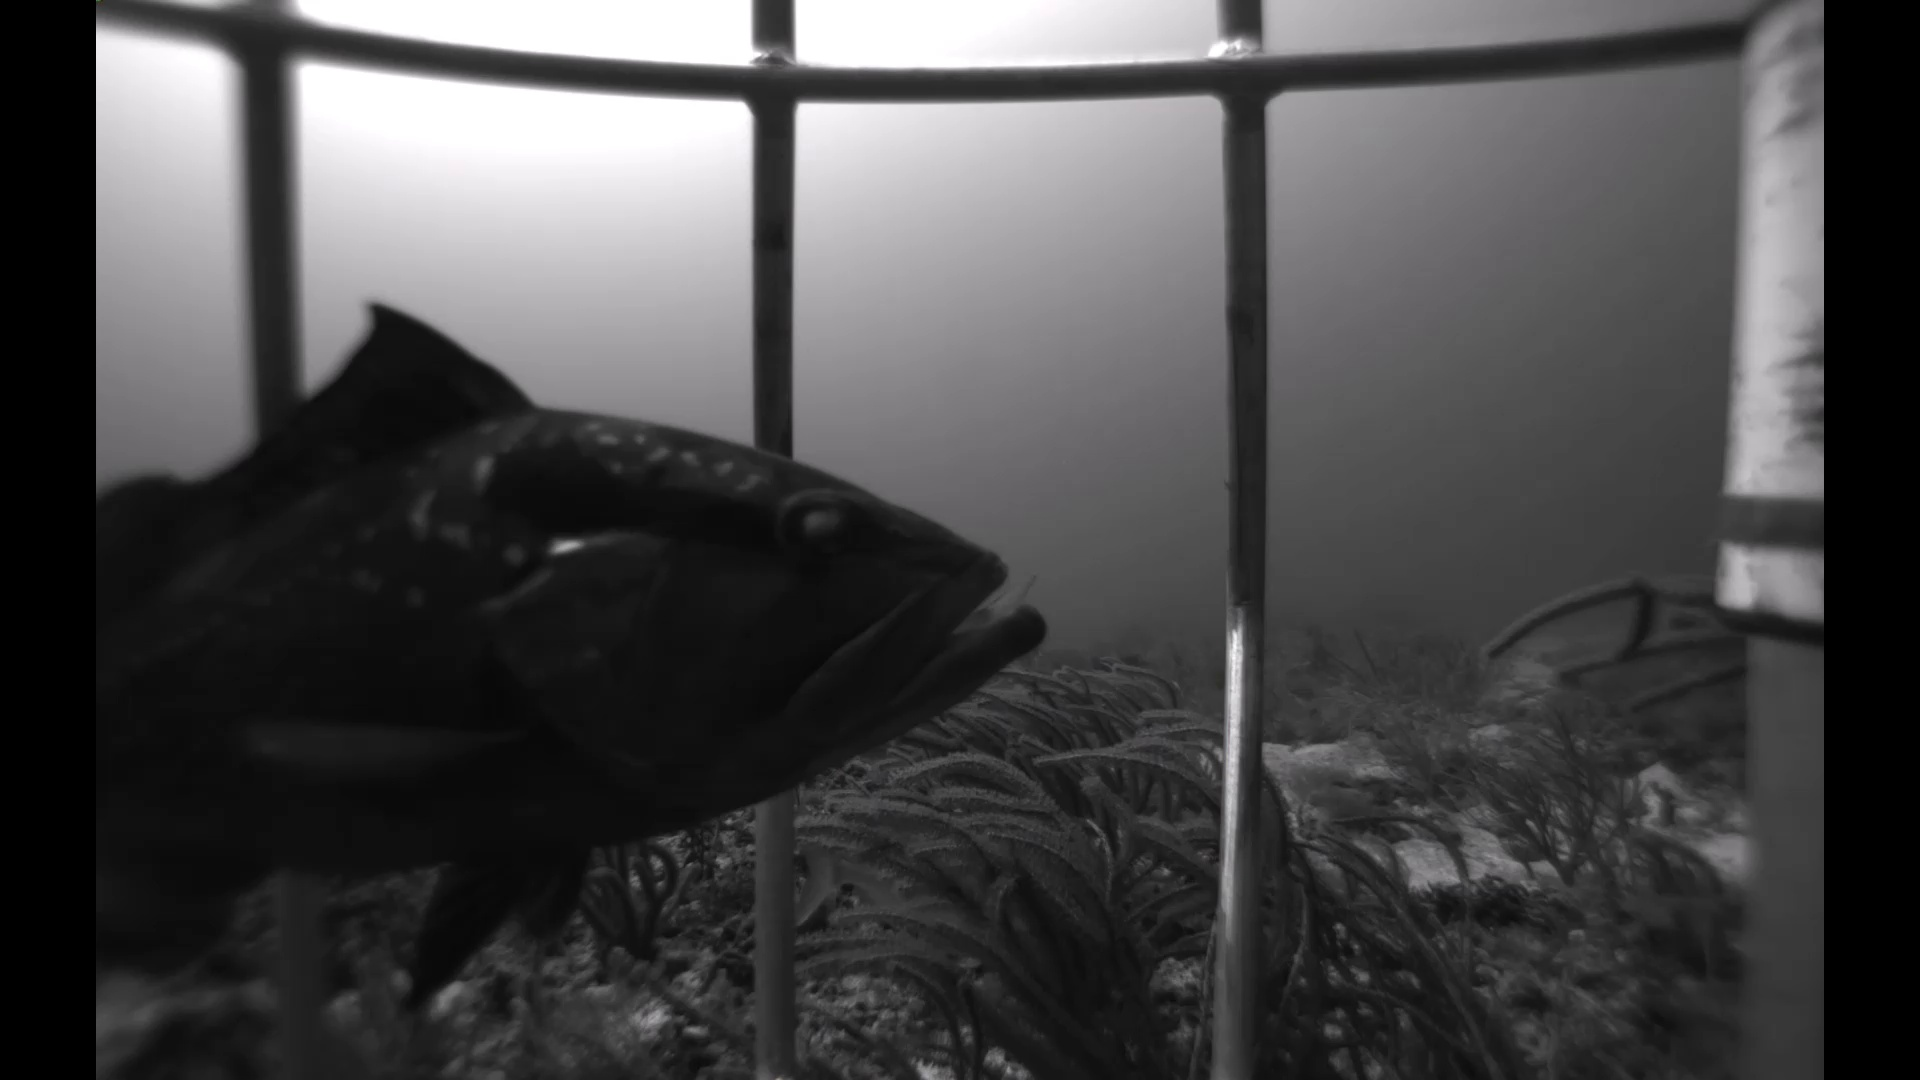CALAMUSNODOSUS-170210608: (789, 823, 927, 935)
EPINEPHELUSMORIO-170021211: (105, 273, 1062, 1054)
PAGRUSPAGRUS-170212302: (947, 559, 1055, 691)
